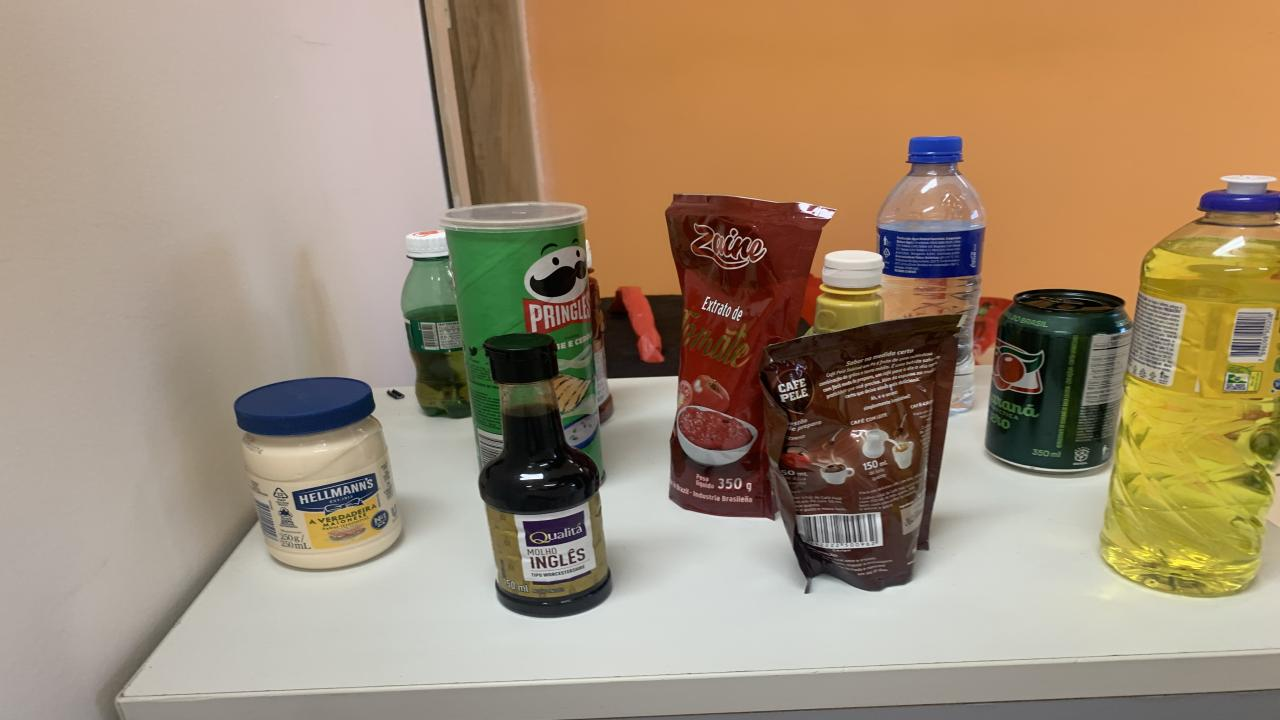Coffee-Pantry_Items: (760, 315, 960, 591)
Detergent-Cleanup_Items: (1100, 176, 1280, 596)
English_Sauce-Pantry_Items: (478, 334, 610, 617)
Guarana-Drinks: (400, 231, 470, 418)
Guarana_Can-Drinks: (985, 289, 1132, 472)
Mayonnaise-Pantry_Items: (235, 377, 402, 568)
Mustard-Pantry_Items: (808, 249, 885, 336)
Pringles-Snacks: (440, 202, 602, 465)
Tomato_Sauce-Pantry_Items: (760, 315, 960, 591), (665, 195, 835, 518)
Water_Bottle-Drinks: (878, 137, 988, 412)
